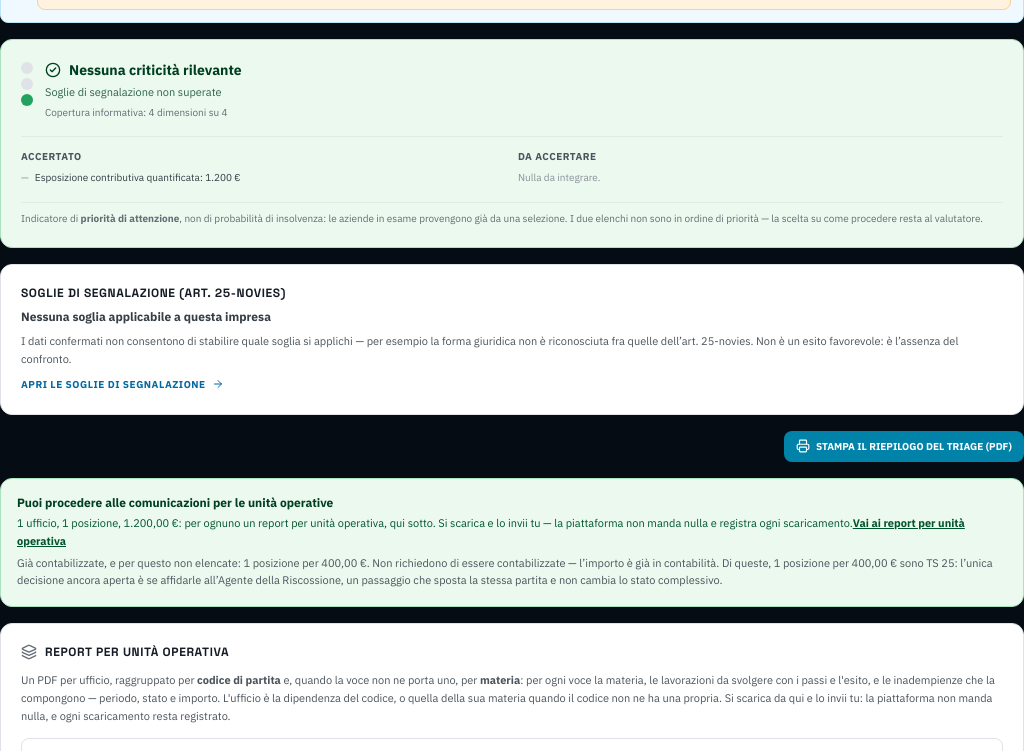
Test: Verifica salute azienda — riapertura da ?azienda= › le soglie si aprono in una finestra, che dice da dove vengono i numeri
(page scrolled)
Click the button "Apri le soglie di segnalazione".
click(122, 384)  # box [21, 377, 224, 392]
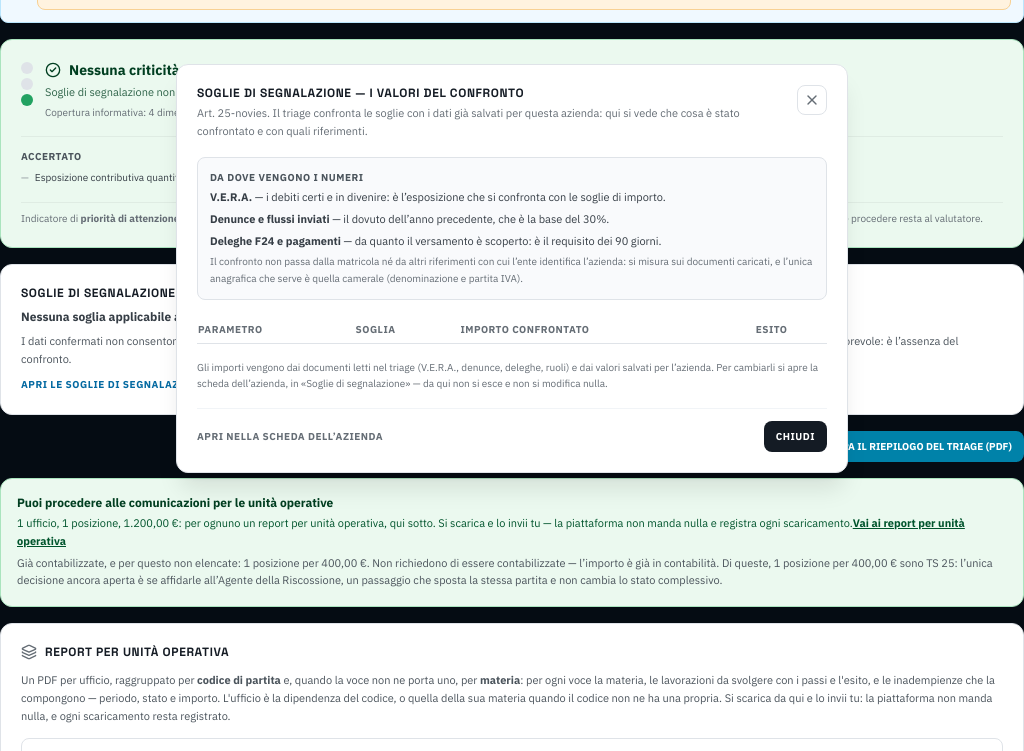
Expected: the text "Da dove vengono i numeri" is shown, [210, 171, 364, 184]
Expected: the text "V.E.R.A." is shown, [210, 190, 252, 204]
Expected: the text "Denunce e flussi inviati" is shown, [210, 212, 330, 226]
# Si chiude: la finestra è una lettura, non un passaggio obbligato.
Click the button "Chiudi".
click(795, 437)  # box [764, 421, 827, 452]
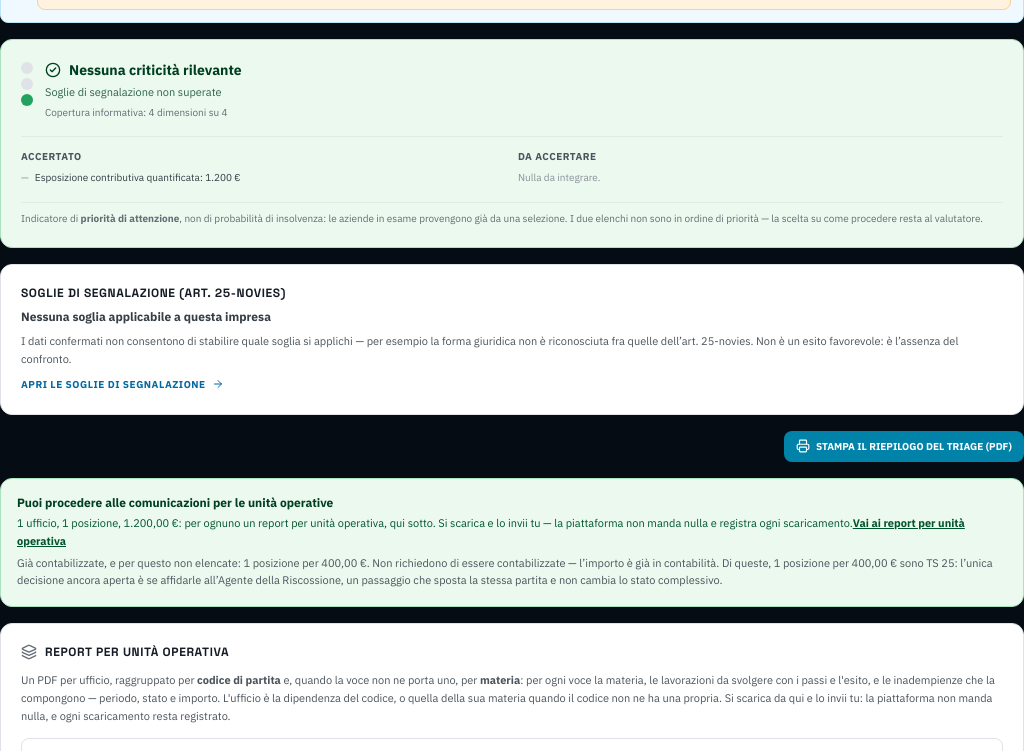
Expected: the dialog is gone
